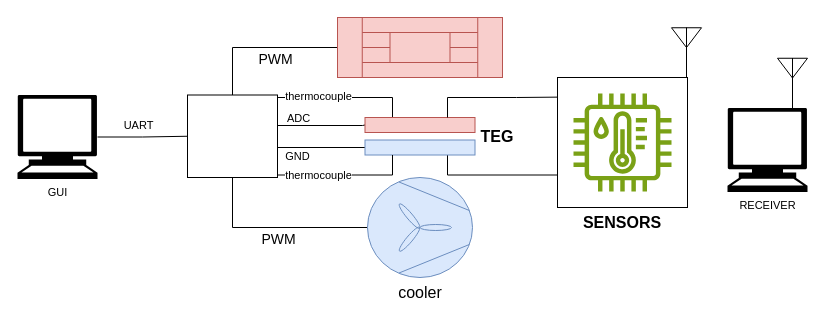
This 825x325 diagram has some shape labels left out. Here are the shapes that lost their labels. From the top down, the box of each, then its label:
(389, 32, 450, 62): heater
(186, 94, 278, 178): MCU
